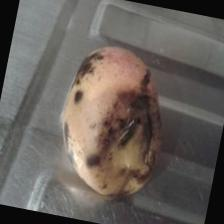Mango Overripe: (48, 40, 179, 202)
